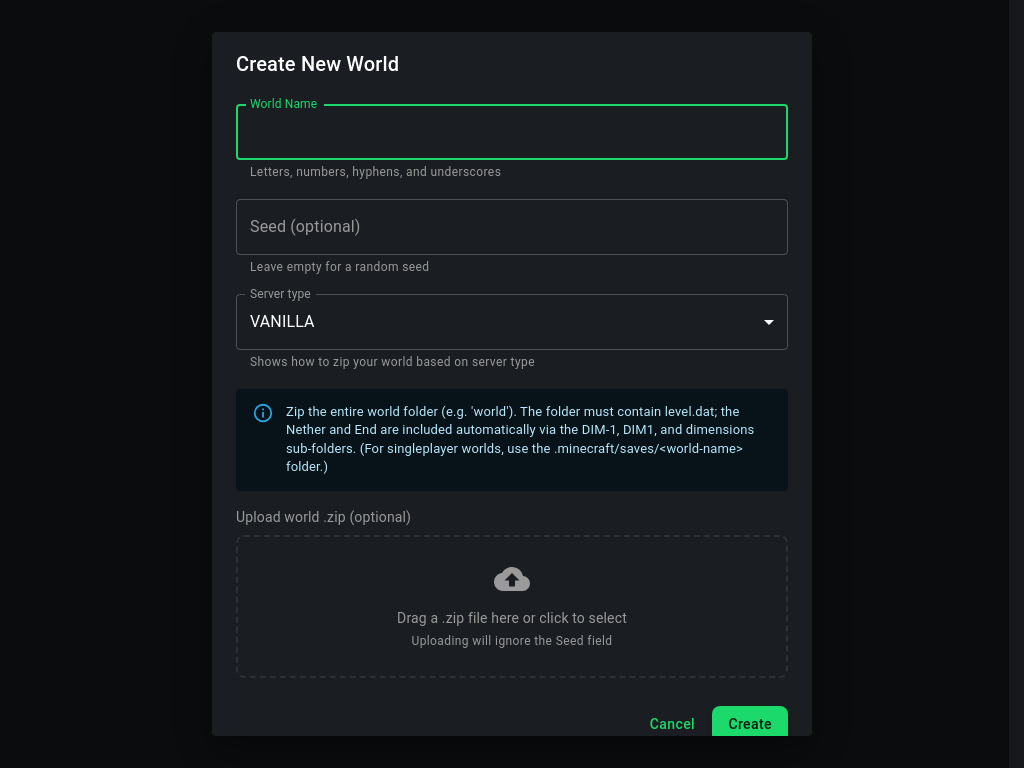
Test: CreateWorldDialog › shows split-folder guidance when PAPER is selected
This screenshot has width=1024, height=768.
Press the mouse on the dropdown named "server type" at {"x": 282, "y": 322}, box x1=250 y1=312 x2=315 y2=331
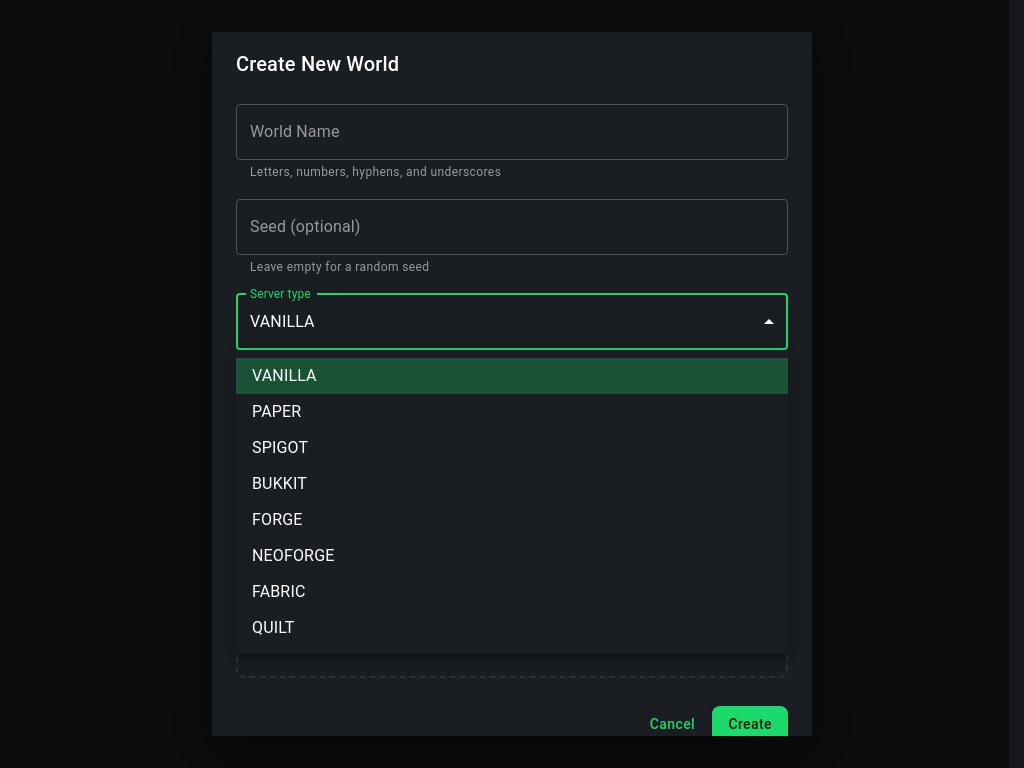
# Wait for the MUI dropdown to appear
Click the option "PAPER".
click(277, 412)  # box x1=252 y1=402 x2=301 y2=421
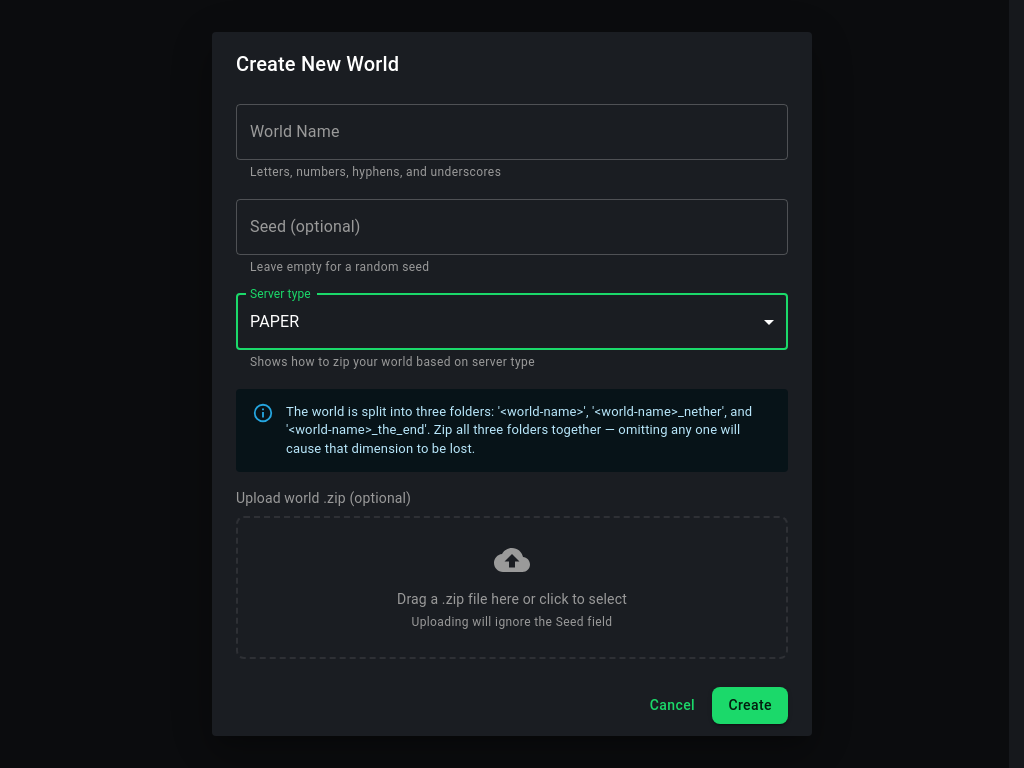
Now the text "all three folders together" is shown, box x1=286 y1=404 x2=752 y2=456
